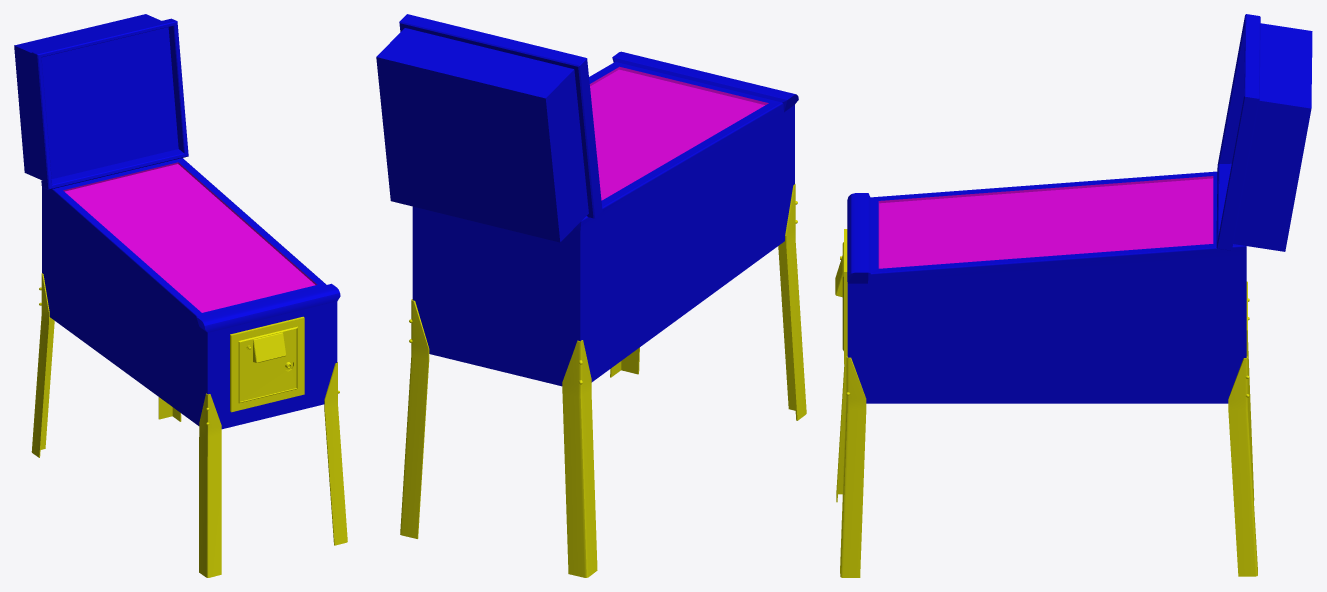
Rendered from ASS_pinball_v000.fbx.
3 renders of one model, left to right at view 1: azimuth 30°, elevation 25°; view 2: azimuth 150°, elevation 25°; view 3: azimuth 270°, elevation 25°, orthographic. The views are drawn at different scales.
Parts seen in each view (by area): view 1: body, top_frame, polySurface1, pCube38, pCube26, pCube40, money_box_buttons_panel; view 2: body, top_frame, pCube40, pCube39, pCube38; view 3: body, top_frame, pCube26, pCube39, polySurface1, pCube38.
Part boxes in pixels (x1=…): body: x1=41, y1=158, x2=340, y2=429; top_frame: x1=14, y1=14, x2=188, y2=189; polySurface1: x1=230, y1=316, x2=304, y2=412; pCube38: x1=199, y1=393, x2=221, y2=577; pCube26: x1=324, y1=362, x2=347, y2=545; pCube40: x1=31, y1=273, x2=54, y2=457; money_box_buttons_panel: x1=253, y1=332, x2=286, y2=362; body: x1=412, y1=51, x2=798, y2=386; top_frame: x1=376, y1=14, x2=602, y2=242; pCube40: x1=562, y1=340, x2=597, y2=577; pCube39: x1=400, y1=299, x2=429, y2=538; pCube38: x1=778, y1=184, x2=806, y2=420; body: x1=847, y1=171, x2=1246, y2=403; top_frame: x1=1216, y1=14, x2=1312, y2=251; pCube26: x1=840, y1=356, x2=866, y2=577; pCube39: x1=1228, y1=356, x2=1257, y2=576; polySurface1: x1=842, y1=229, x2=847, y2=364; pCube38: x1=836, y1=364, x2=846, y2=502.
Bounding box in the file's own units: 10.23 × 26.71 × 24.04.
